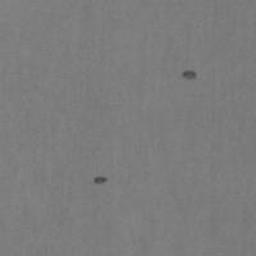Inclusion: (182, 70, 196, 80), (94, 176, 107, 184)
